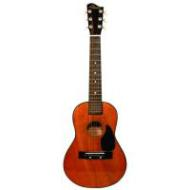guitar: (63, 3, 127, 188)
